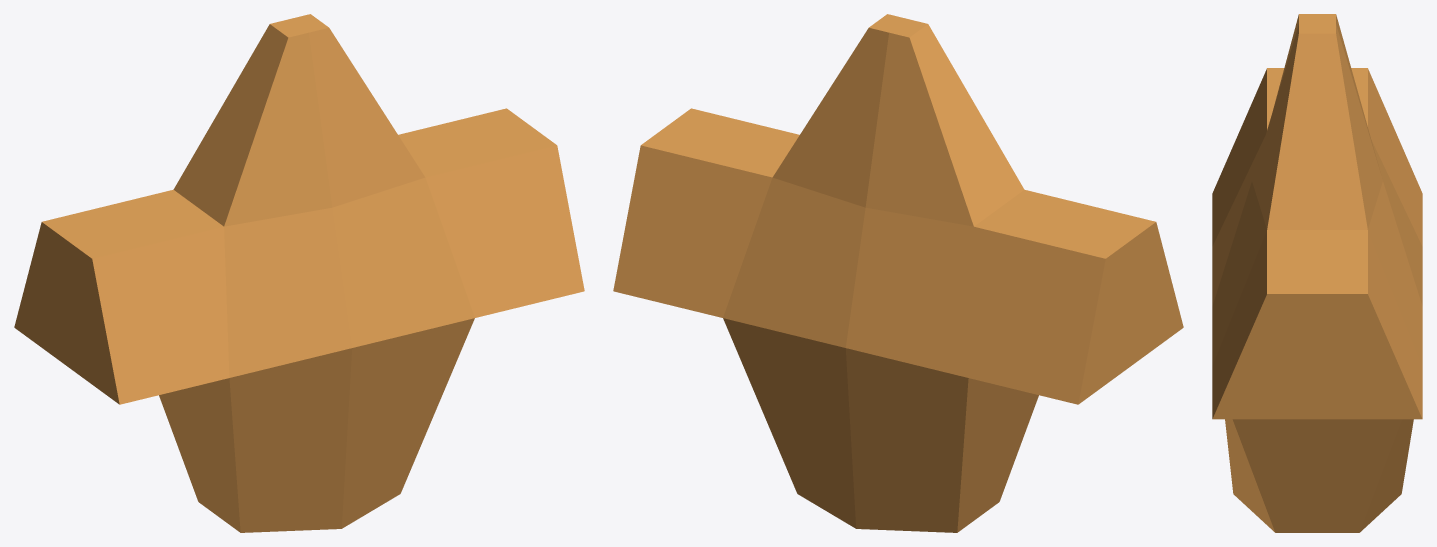
File: fence_two_sided.glb
The picture shows the model from 3 angles, left to right: view 1: azimuth 30°, elevation 25°; view 2: azimuth 150°, elevation 25°; view 3: azimuth 270°, elevation 25°; orthographic projection.
Visible parts, largest first — view 1: Fence.002; view 2: Fence.002; view 3: Fence.002.
Boxes of the visible parts, left/top/right/bottom form: Fence.002: left=14, top=14, right=584, bottom=532; Fence.002: left=613, top=14, right=1183, bottom=532; Fence.002: left=1212, top=14, right=1422, bottom=532.
Bounding box in the file's own units: 1.04 × 1.01 × 0.4097.
